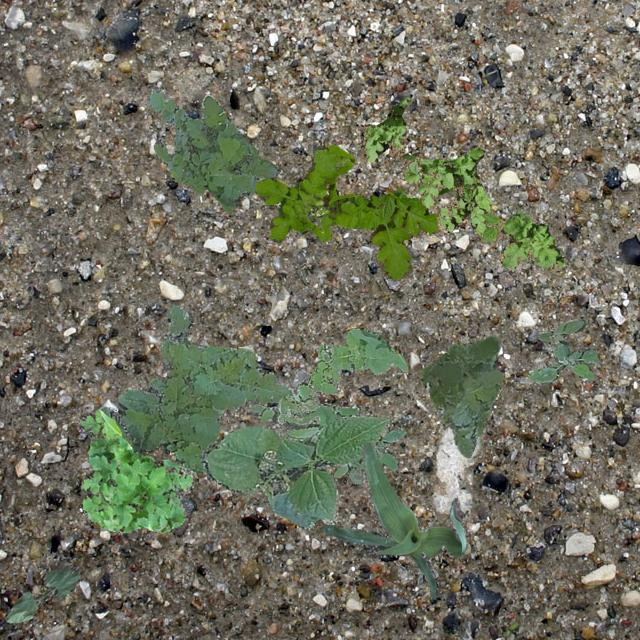crop: (322, 442, 466, 598), (200, 414, 388, 528), (5, 564, 80, 622)
weed: (360, 96, 564, 270), (100, 304, 292, 472), (254, 143, 438, 280), (146, 86, 278, 212), (80, 409, 196, 532), (248, 400, 406, 482), (274, 326, 406, 424), (420, 334, 502, 456), (526, 316, 598, 382)
